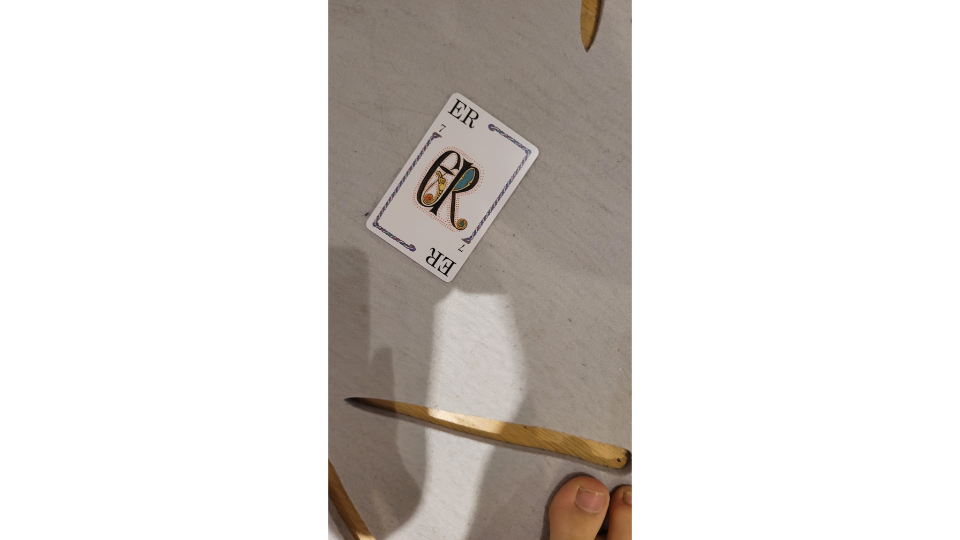ER: (364, 90, 543, 285)
